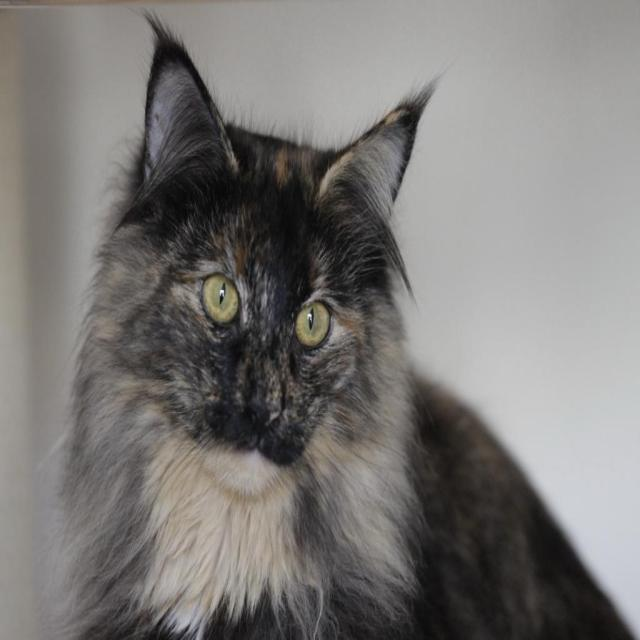Cat: (29, 0, 634, 638)
